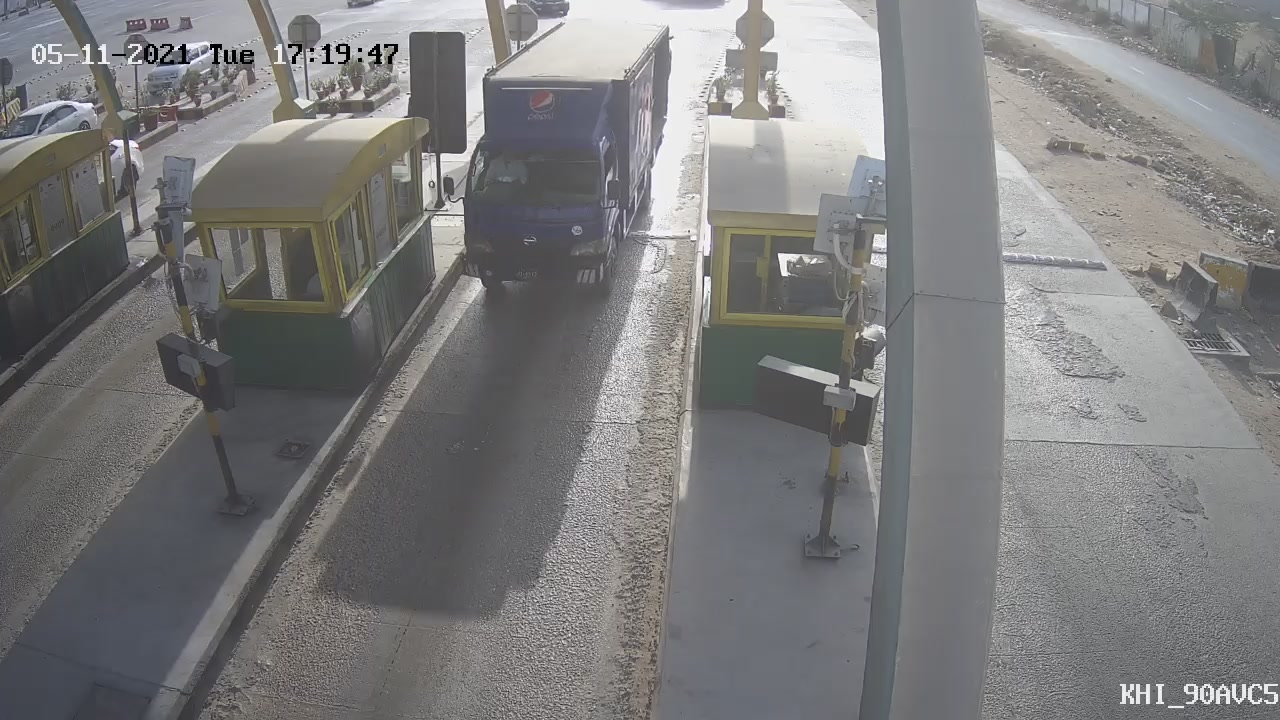F5: (422, 5, 690, 325)
